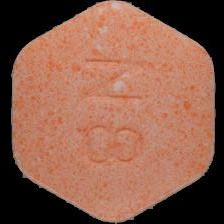63629-4034: (0, 0, 224, 224)
